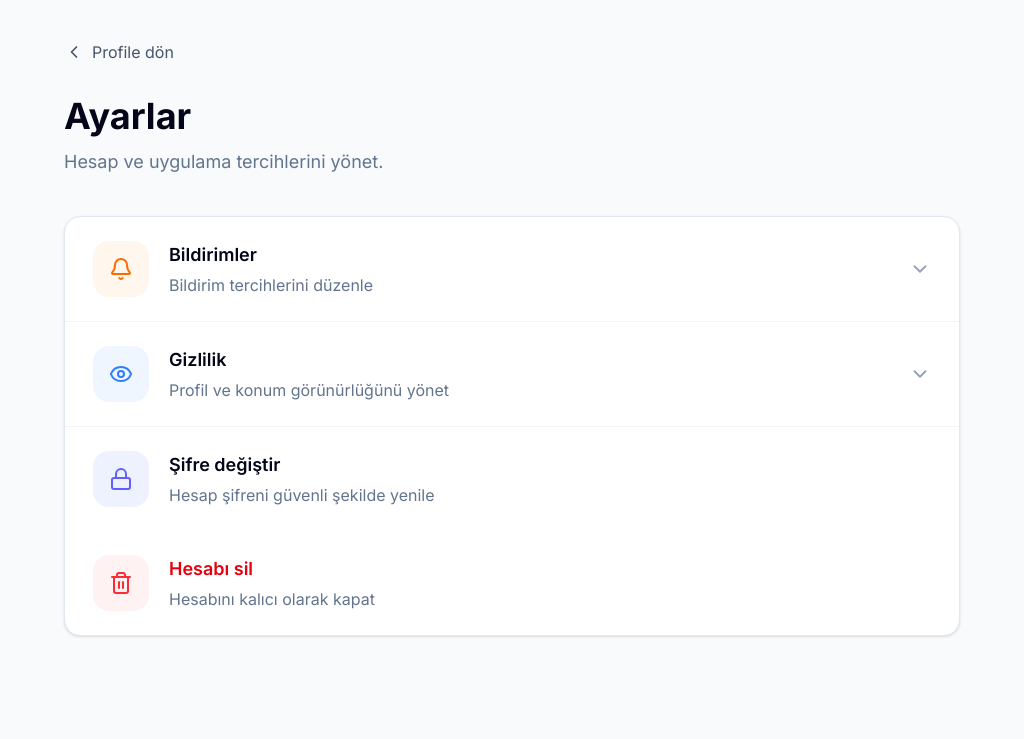
SettingsPage — çevre uyarıları › açık aboneliği kapatmak enabled:false ile PUT eder
Click the button "Bildirimler Bildirim tercihlerini düzenle": (121, 269) [65,217,959,321]
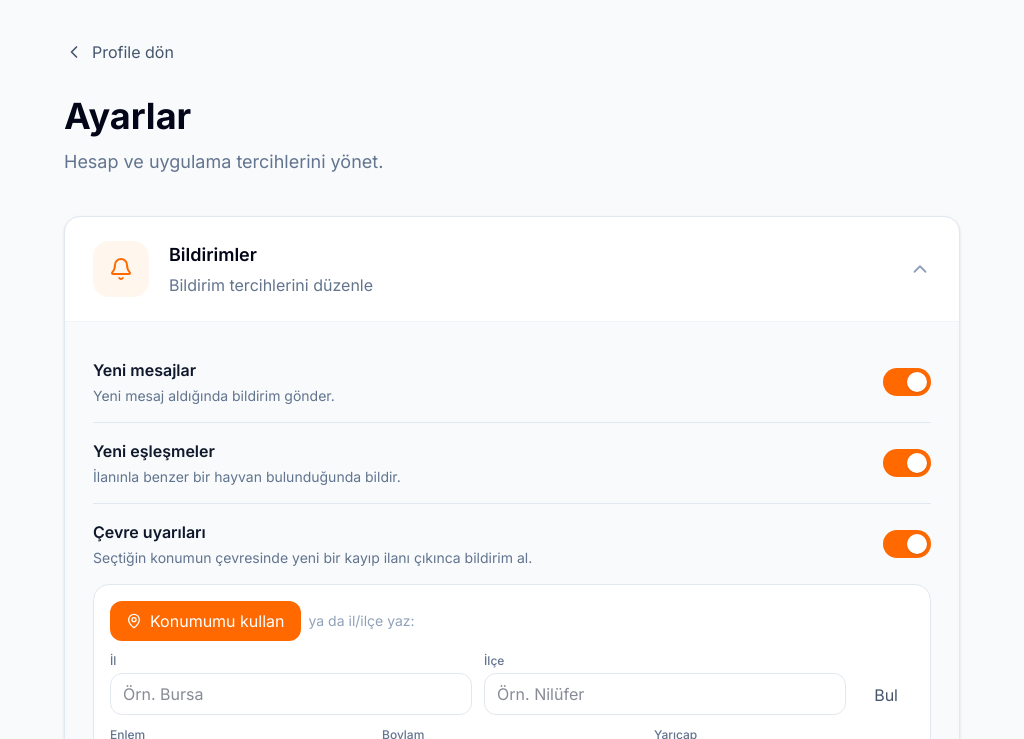
Click the switch in the row of "Çevre uyarıları": (907, 544) [883,530,931,558]
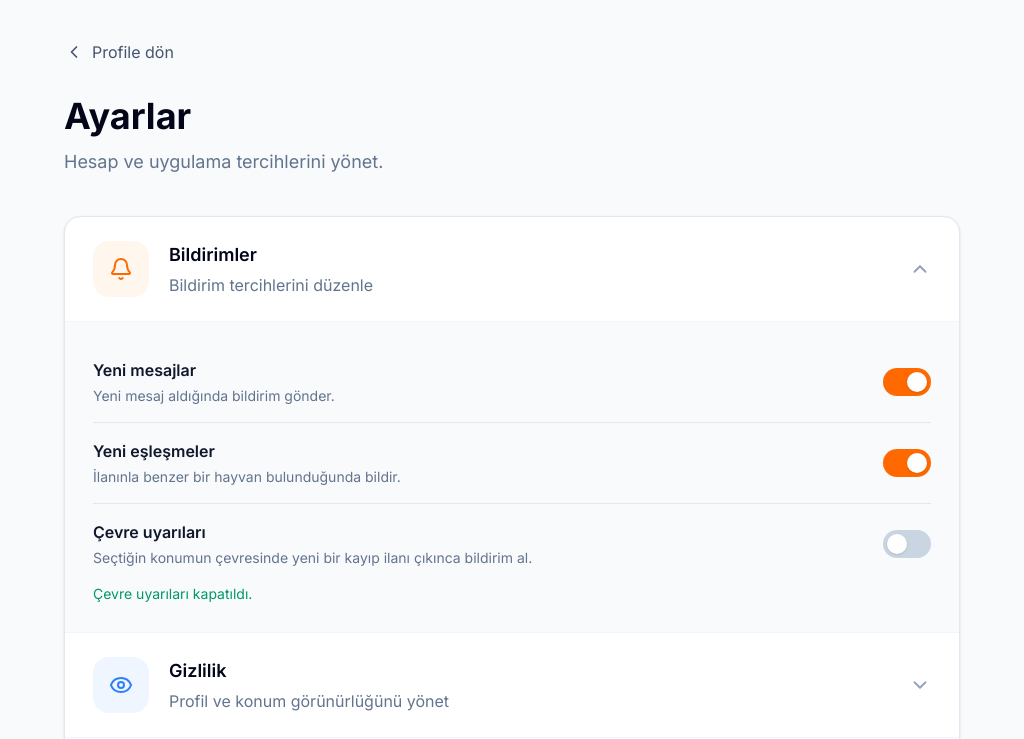
Now the text "Çevre uyarıları kapatıldı." is shown, box [93,585,252,602]
